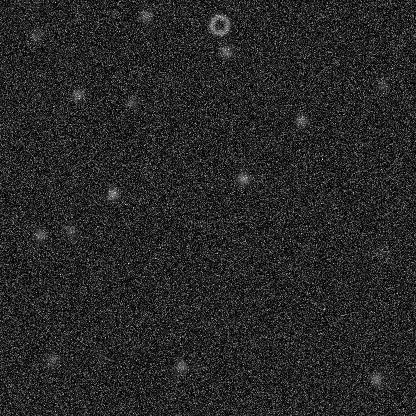Ring: (207, 12, 231, 36)
Spot: (188, 359, 204, 375), (69, 86, 85, 102), (31, 227, 47, 243), (293, 112, 309, 128), (368, 371, 384, 387), (373, 244, 389, 260), (137, 7, 153, 23), (27, 27, 43, 43), (374, 76, 390, 92), (62, 222, 78, 238), (124, 94, 140, 110), (104, 185, 120, 201), (235, 170, 251, 186), (44, 351, 60, 367), (172, 358, 188, 374), (90, 344, 106, 360), (217, 44, 233, 60)
